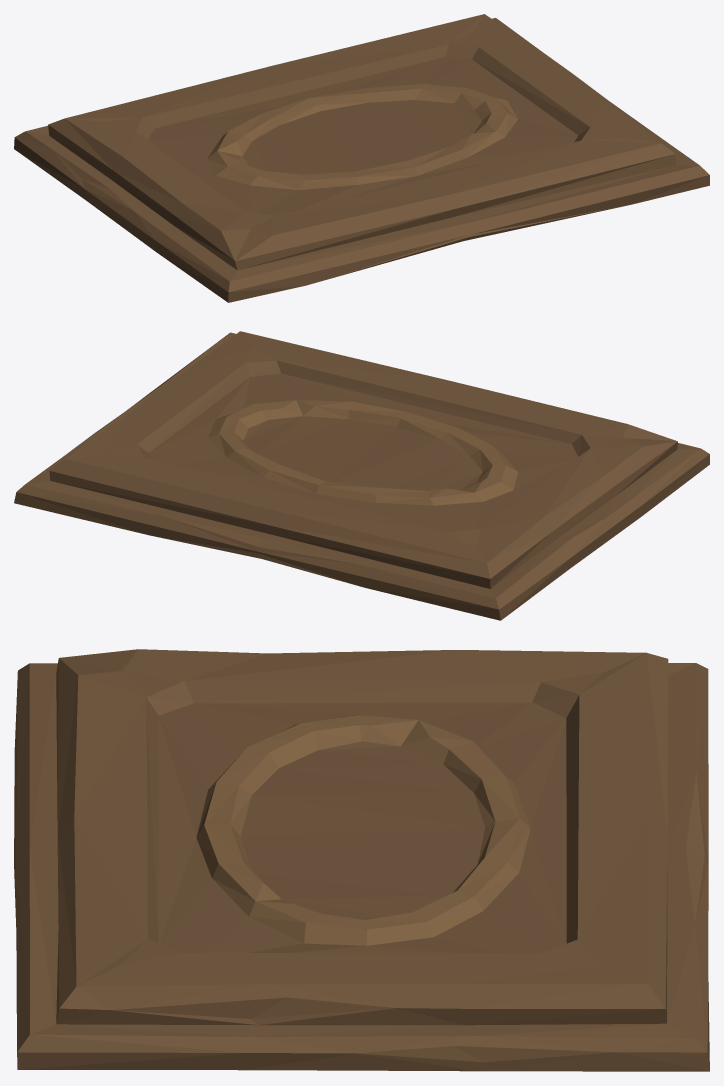
The model's file is SFHW_Crate_001.fbx.
3 views of the same model, one above another, from view 1: azimuth 30°, elevation 25°; view 2: azimuth 150°, elevation 25°; view 3: azimuth 270°, elevation 25° (orthographic). The views are drawn at different scales.
Visible parts, largest first — view 1: SFHW_Crate_001; view 2: SFHW_Crate_001; view 3: SFHW_Crate_001.
Boxes of the visible parts, bbox=[...] form: SFHW_Crate_001: bbox=[14, 14, 709, 302]; SFHW_Crate_001: bbox=[14, 331, 709, 620]; SFHW_Crate_001: bbox=[14, 649, 709, 1071].
Bounding box in the file's own units: 47.57 × 3.69 × 36.31.
